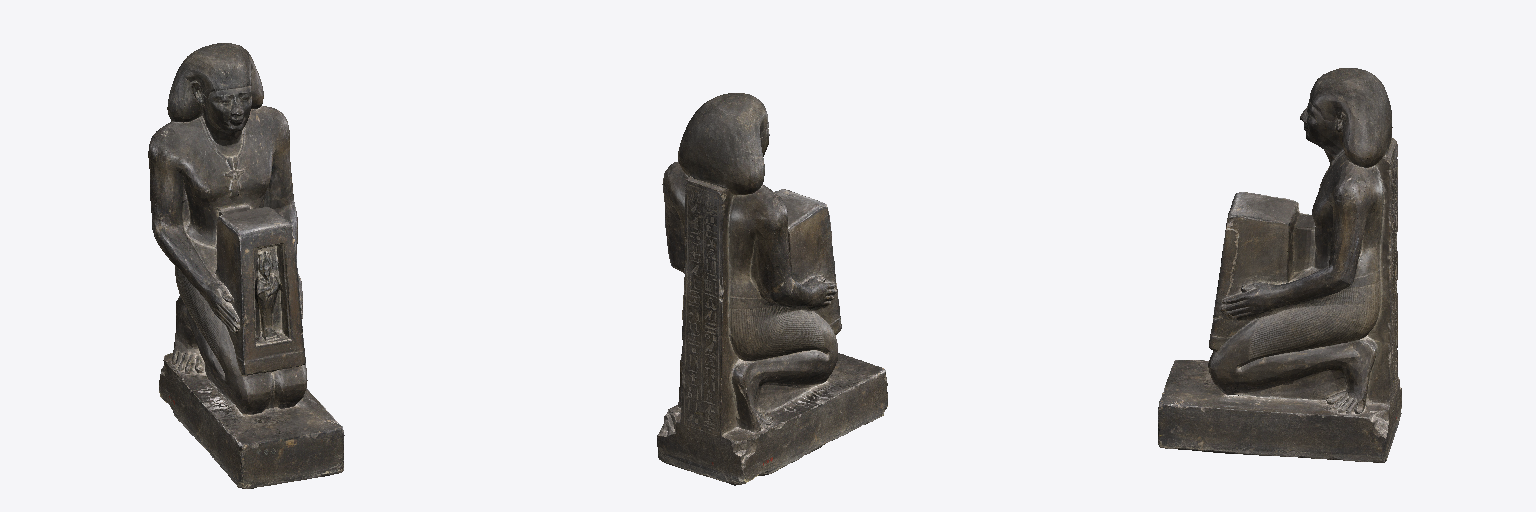
3 views of the same model, side by side, from view 1: azimuth 30°, elevation 25°; view 2: azimuth 150°, elevation 25°; view 3: azimuth 270°, elevation 25° (orthographic).
Parts seen in each view (by area): view 1: naoforoL_temp; view 2: naoforoL_temp; view 3: naoforoL_temp.
Boxes of the visible parts, x1=… form: naoforoL_temp: x1=148, y1=43, x2=344, y2=488; naoforoL_temp: x1=657, y1=93, x2=887, y2=485; naoforoL_temp: x1=1158, y1=68, x2=1401, y2=462.
Bounding box in the file's own units: 6.18 × 16.04 × 9.67.
2 materials, 1 textured.